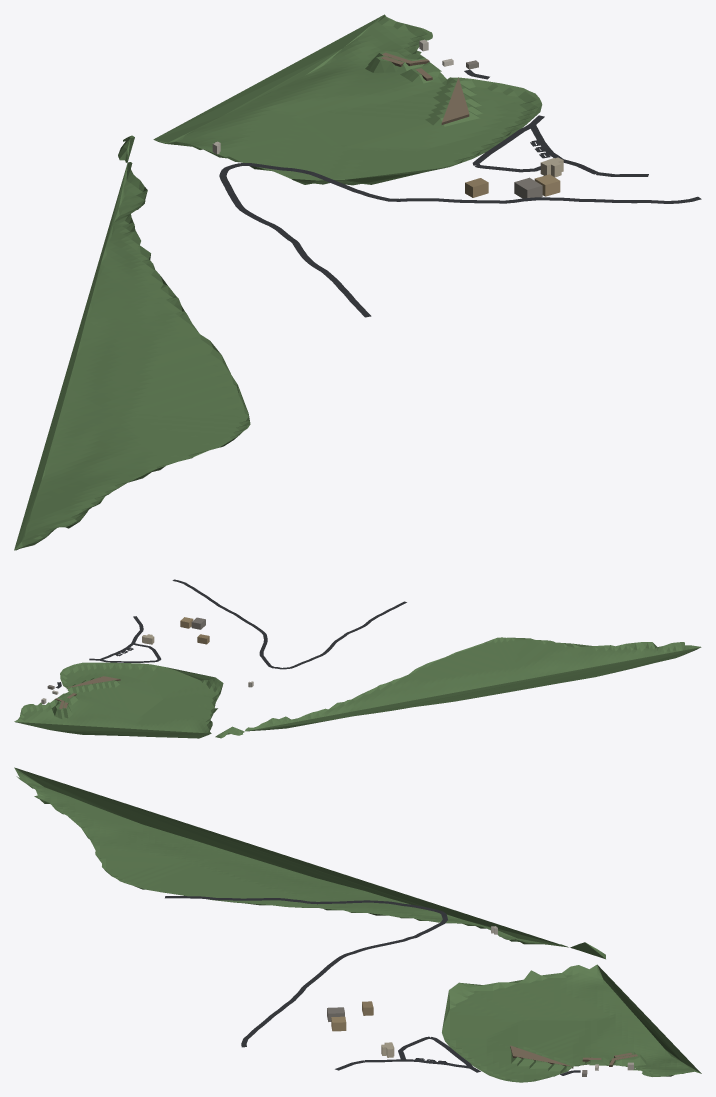
File: tile_9_0.glb
3 renders of one model, top to bottom at view 1: azimuth 30°, elevation 25°; view 2: azimuth 150°, elevation 25°; view 3: azimuth 270°, elevation 25°, orthographic. The views are drawn at different scales.
Visible parts, largest first — view 1: grn_9_0, road_9_0, bld_9_0; view 2: grn_9_0, road_9_0, bld_9_0; view 3: grn_9_0, road_9_0, bld_9_0.
Part boxes in pixels (x1,y1,x2,y2): grn_9_0: [14, 14, 542, 550]; road_9_0: [219, 69, 701, 317]; bld_9_0: [212, 39, 563, 201]; grn_9_0: [14, 637, 701, 738]; road_9_0: [55, 579, 406, 688]; bld_9_0: [41, 617, 253, 704]; grn_9_0: [14, 767, 701, 1082]; road_9_0: [165, 896, 580, 1075]; bld_9_0: [327, 926, 633, 1076].
Bounding box in the file's own units: 965 × 79.43 × 896.
